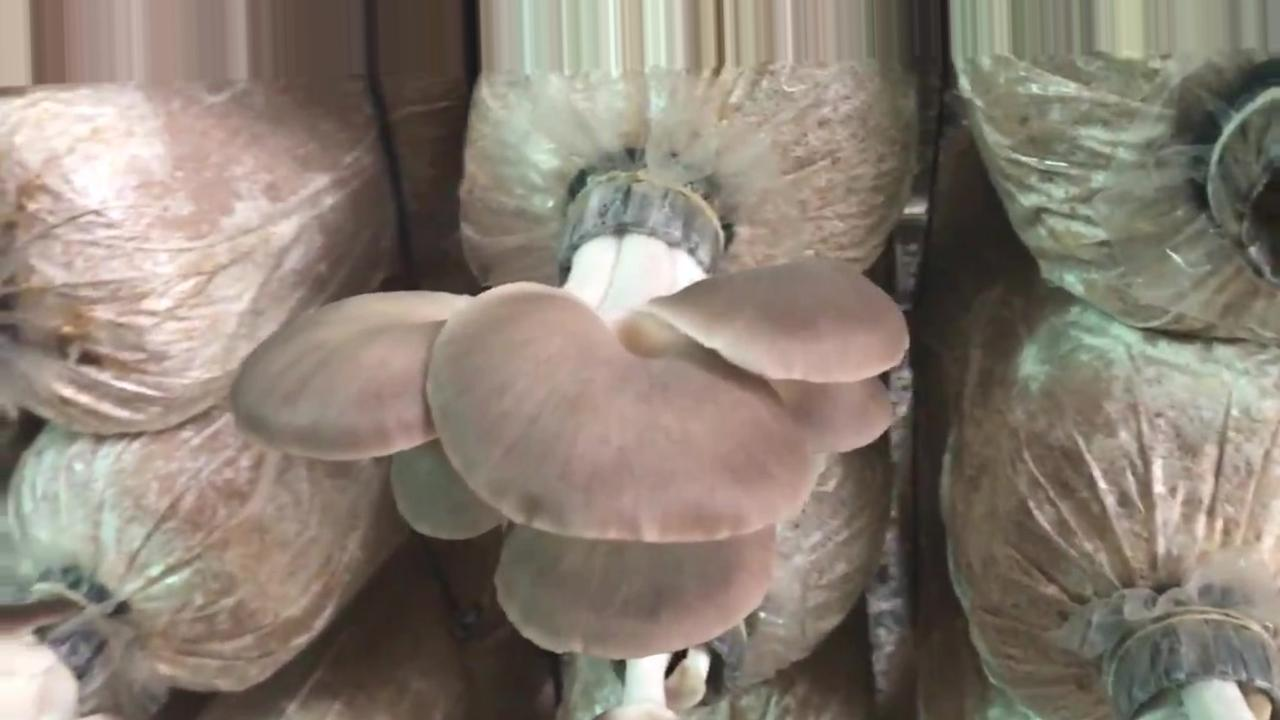nam: (230, 170, 907, 657), (1, 584, 108, 720), (601, 627, 741, 720)
